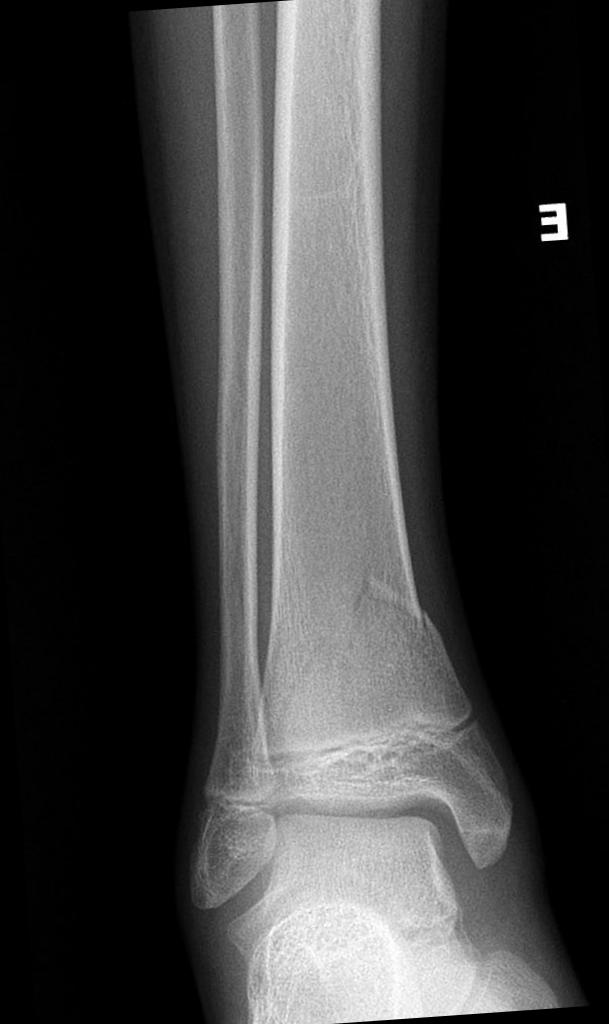line: (346, 565, 436, 637), (267, 651, 328, 742)
